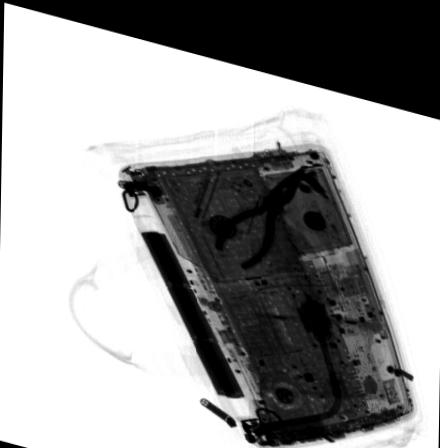Pliers: (212, 147, 305, 256)
